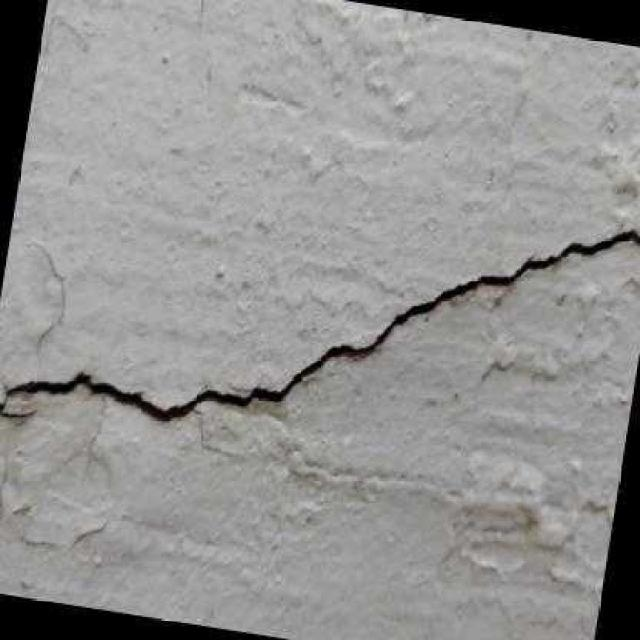D00: (0, 223, 640, 425)
